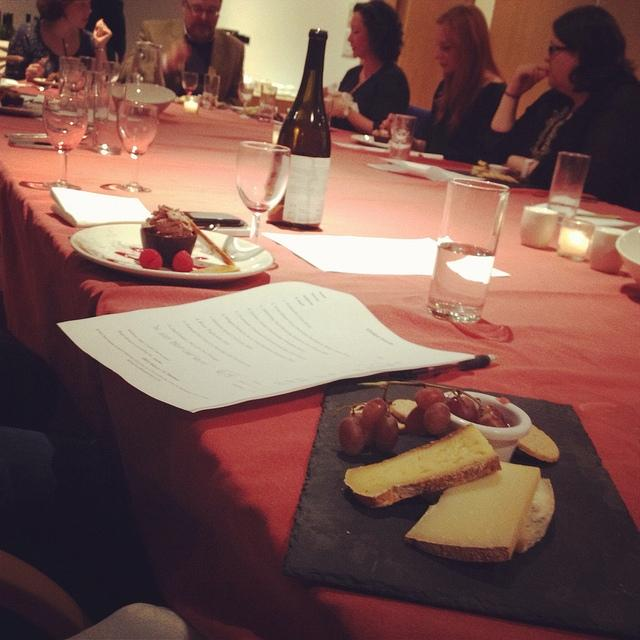grape: (360, 398, 388, 447), (446, 396, 479, 426), (374, 412, 398, 452), (424, 402, 451, 434), (404, 406, 427, 437), (414, 387, 444, 410), (479, 413, 506, 428)
raspberry: (172, 250, 194, 272), (140, 249, 162, 270)
